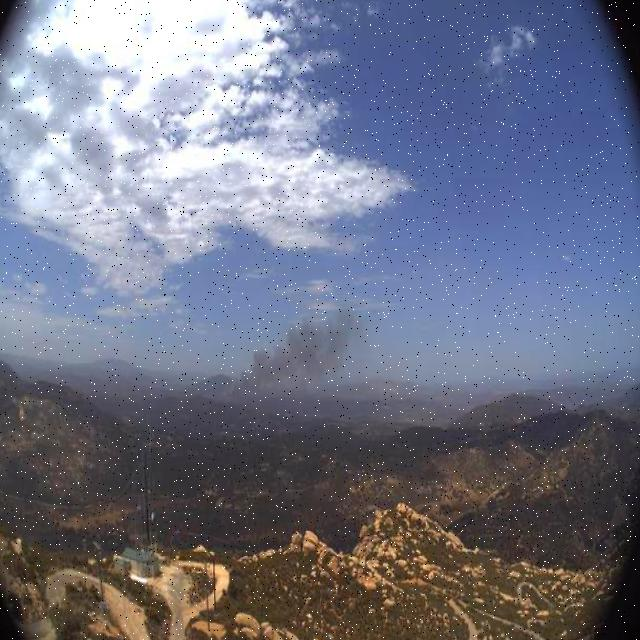smoke: (216, 299, 368, 406)
